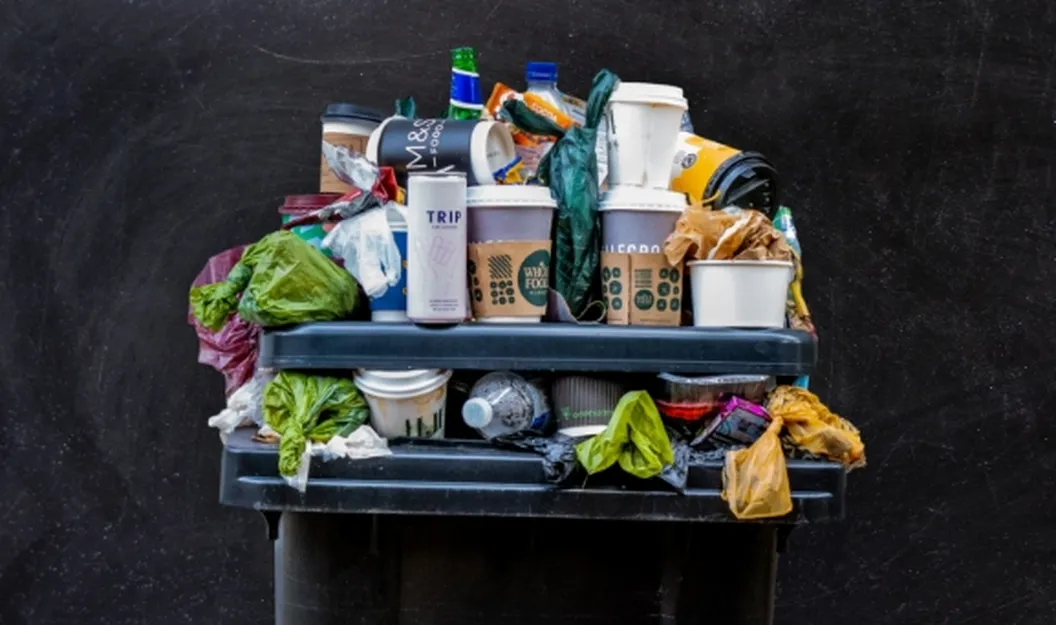bin_full: (189, 48, 864, 624)
normal_waste: (503, 70, 617, 314), (665, 207, 794, 326), (467, 185, 555, 321), (601, 185, 685, 325), (365, 116, 515, 186), (407, 172, 467, 322), (605, 81, 687, 188), (354, 369, 449, 437), (462, 372, 551, 439), (319, 103, 382, 193)
